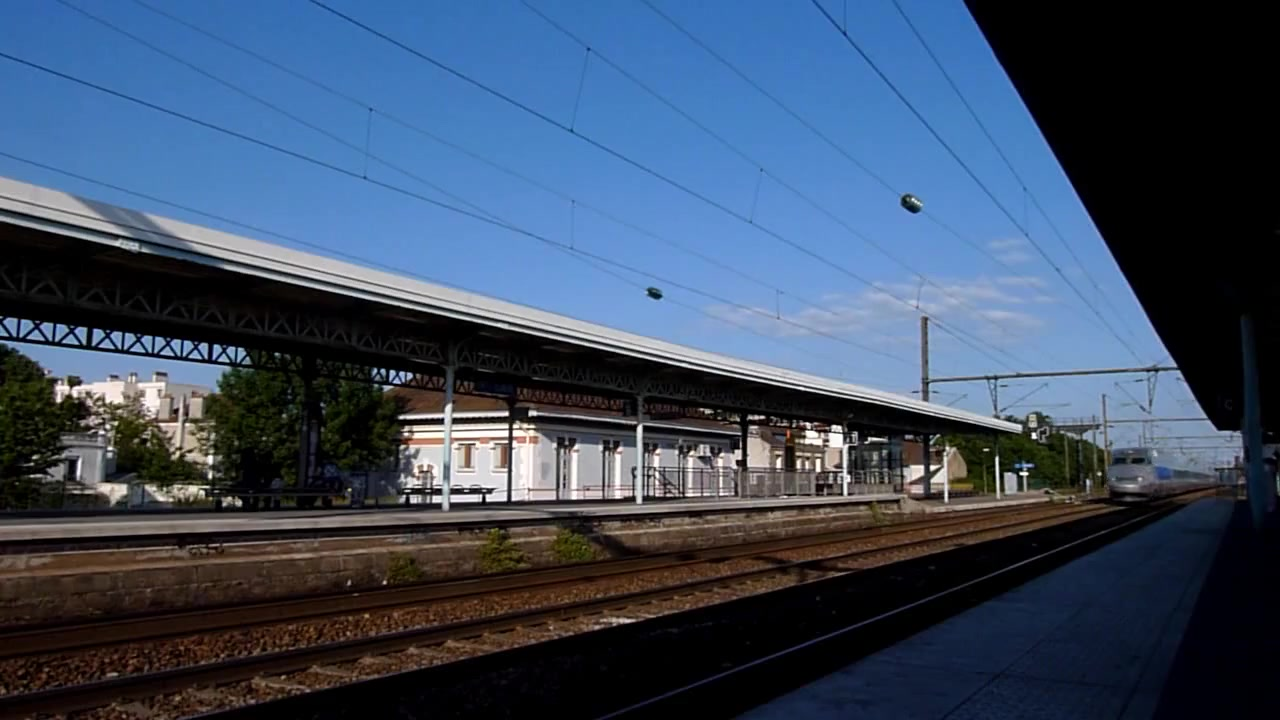train: (1102, 445, 1230, 504)
